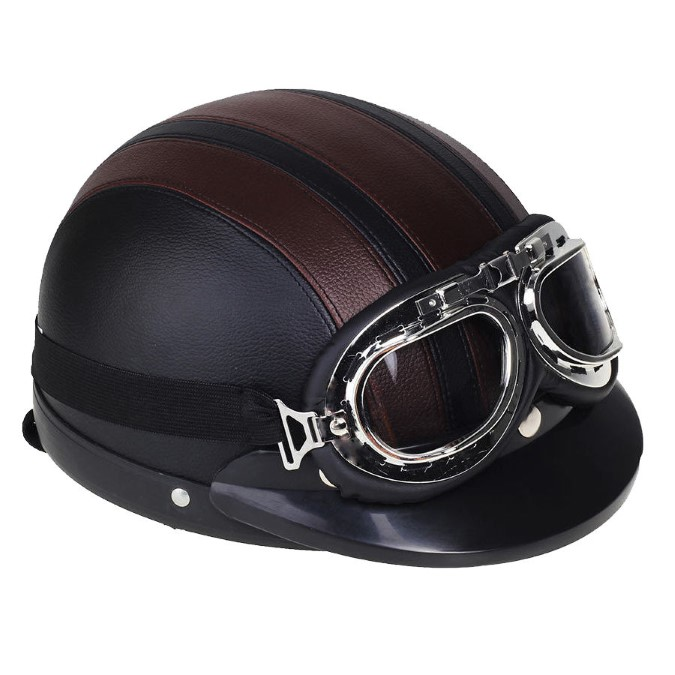with_helmet: (25, 82, 645, 558)
